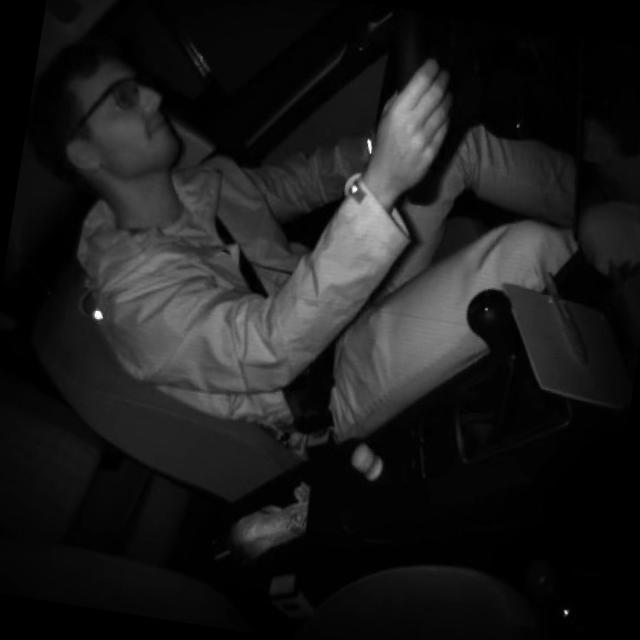pen: (530, 269, 603, 371)
